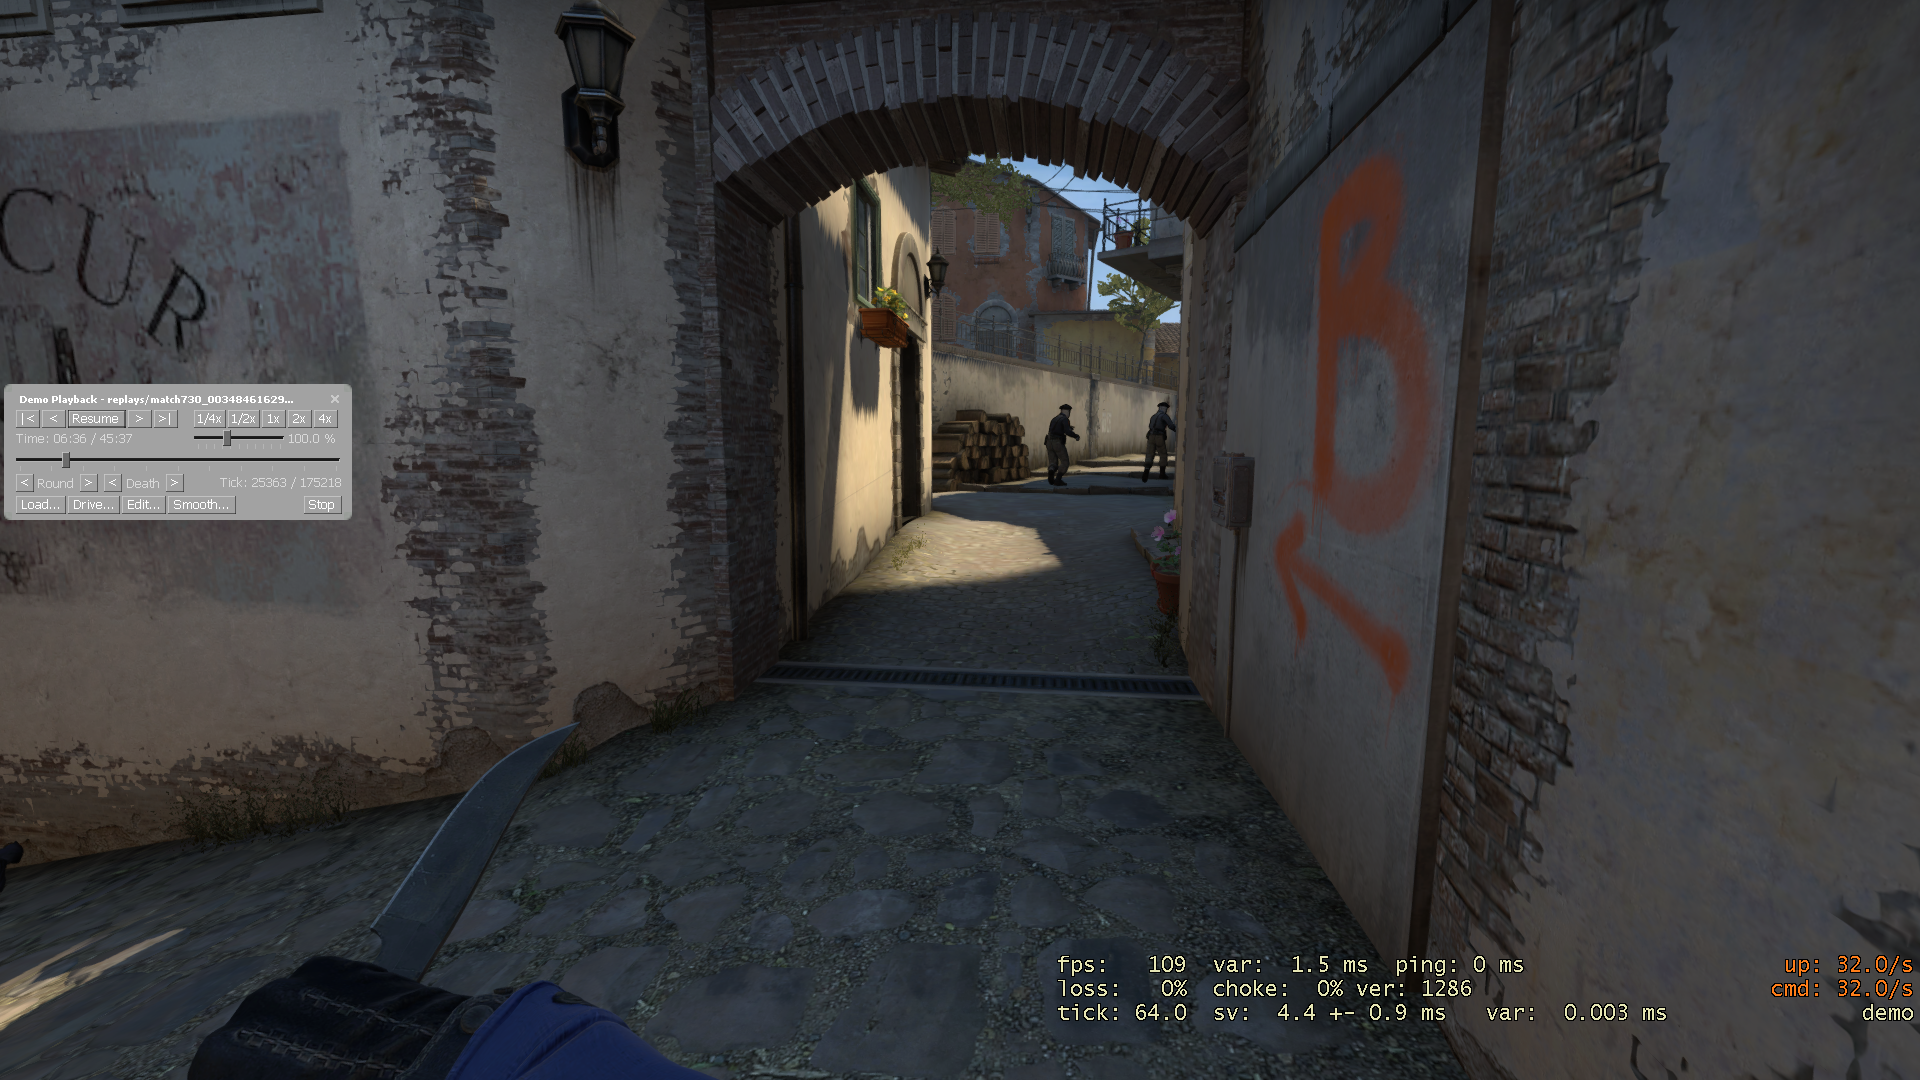t: (1044, 404, 1080, 487), (1142, 402, 1175, 481)
